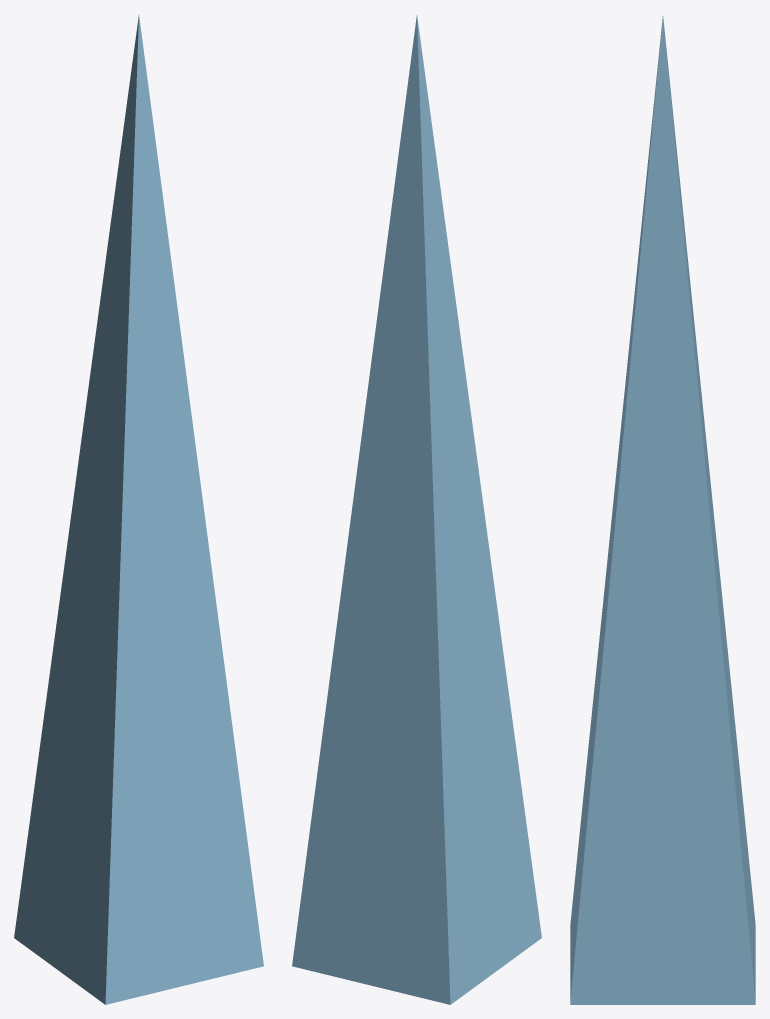
The model's file is ee_simple.dae.
The picture shows the model from 3 angles, left to right: view 1: azimuth 30°, elevation 25°; view 2: azimuth 150°, elevation 25°; view 3: azimuth 270°, elevation 25°; orthographic projection.
Visible parts, largest first — view 1: ID2; view 2: ID2; view 3: ID2.
Boxes of the visible parts, x1=… form: ID2: x1=14, y1=15, x2=263, y2=1004; ID2: x1=292, y1=15, x2=541, y2=1004; ID2: x1=570, y1=16, x2=755, y2=1004.
Bounding box in the file's own units: 0.05 × 0.05 × 0.2828.
